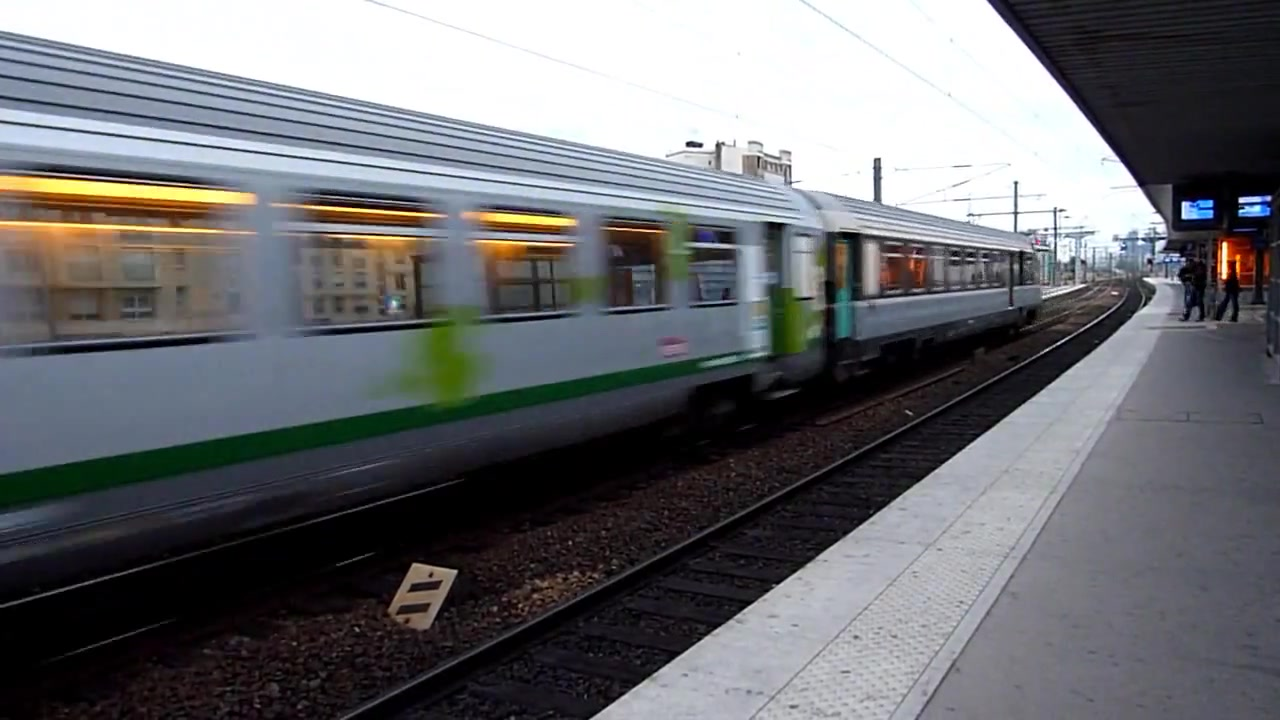train: (1, 26, 1051, 571)
